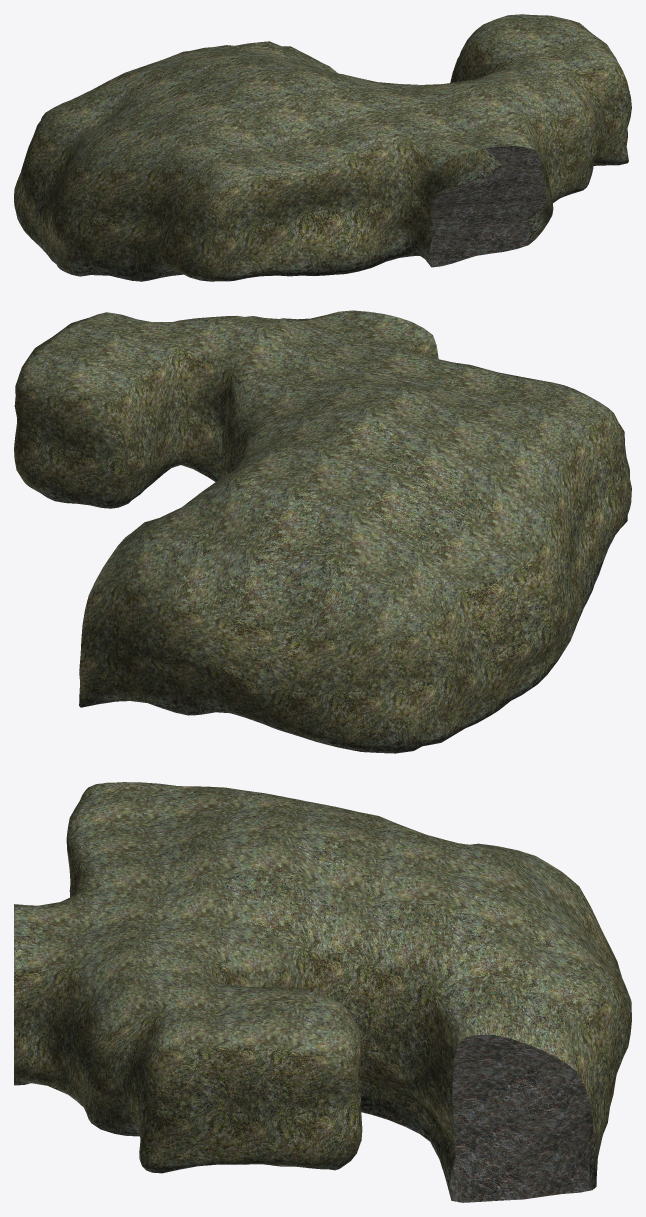
File: thm_all_cave_s01_damprock_mirror_r5_mesh_r5.fbx
The picture shows the model from 3 angles, top to bottom: view 1: azimuth 30°, elevation 25°; view 2: azimuth 150°, elevation 25°; view 3: azimuth 270°, elevation 25°; orthographic projection. The views are drawn at different scales.
Visible parts, largest first — view 1: mesh_node; view 2: mesh_node; view 3: mesh_node.
Boxes of the visible parts, <box> form: mesh_node: <box>14,14,631,281</box>; mesh_node: <box>14,310,631,753</box>; mesh_node: <box>14,782,631,1202</box>.
Size of the model in its own units: 98.88 by 42.82 by 84.01.
